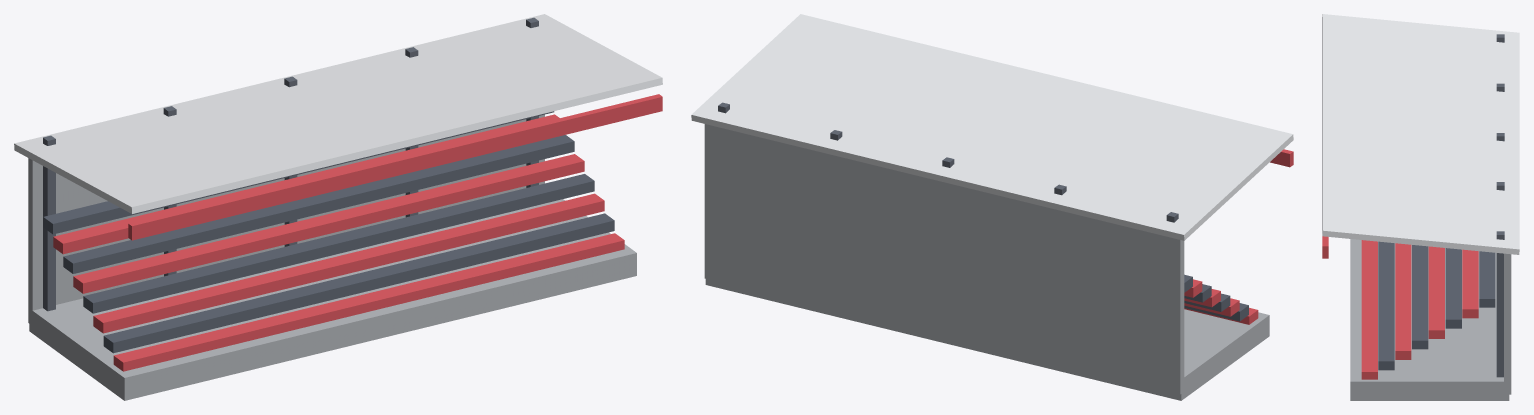
The model's file is grandstand.glb.
The picture shows the model from 3 angles, left to right: view 1: azimuth 30°, elevation 25°; view 2: azimuth 150°, elevation 25°; view 3: azimuth 270°, elevation 25°; orthographic projection. The views are drawn at different scales.
Parts seen in each view (by area): view 1: RoofCanopy, Base, Tier_2, Tier_1, Tier_3, Tier_4, Tier_5, RoofTrim, Tier_0, BackWall, Tier_6, Tier_7 (+1 smaller); view 2: BackWall, RoofCanopy, Base; view 3: RoofCanopy, Base, Tier_0, Tier_1, Tier_2, Tier_3, Tier_4, Tier_5, Tier_6, BackWall, Col_13.2, Tier_7.
Part boxes in pixels (x1,y1,x2,y2): RoofCanopy: (14, 14, 662, 213); Base: (29, 199, 636, 400); Tier_2: (93, 193, 604, 333); Tier_1: (103, 213, 614, 353); Tier_3: (83, 174, 594, 313); Tier_4: (73, 154, 584, 293); Tier_5: (63, 135, 574, 273); RoofTrim: (128, 94, 662, 240); Tier_0: (113, 233, 624, 371); BackWall: (28, 114, 544, 325); Tier_6: (53, 114, 559, 254); Tier_7: (43, 111, 554, 234); BackWall: (704, 124, 1184, 394); RoofCanopy: (691, 14, 1293, 240); Base: (705, 279, 1269, 400); RoofCanopy: (1322, 14, 1519, 254); Base: (1350, 239, 1509, 400); Tier_0: (1361, 240, 1377, 379); Tier_1: (1378, 241, 1394, 370); Tier_2: (1395, 243, 1411, 359); Tier_3: (1412, 245, 1428, 349); Tier_4: (1428, 246, 1444, 338); Tier_5: (1445, 248, 1461, 328); Tier_6: (1462, 249, 1478, 318); BackWall: (1504, 253, 1511, 394); Col_13.2: (1496, 231, 1504, 377); Tier_7: (1479, 251, 1495, 307).
Size of the model in its own units: 29 by 10.86 by 11.18.
